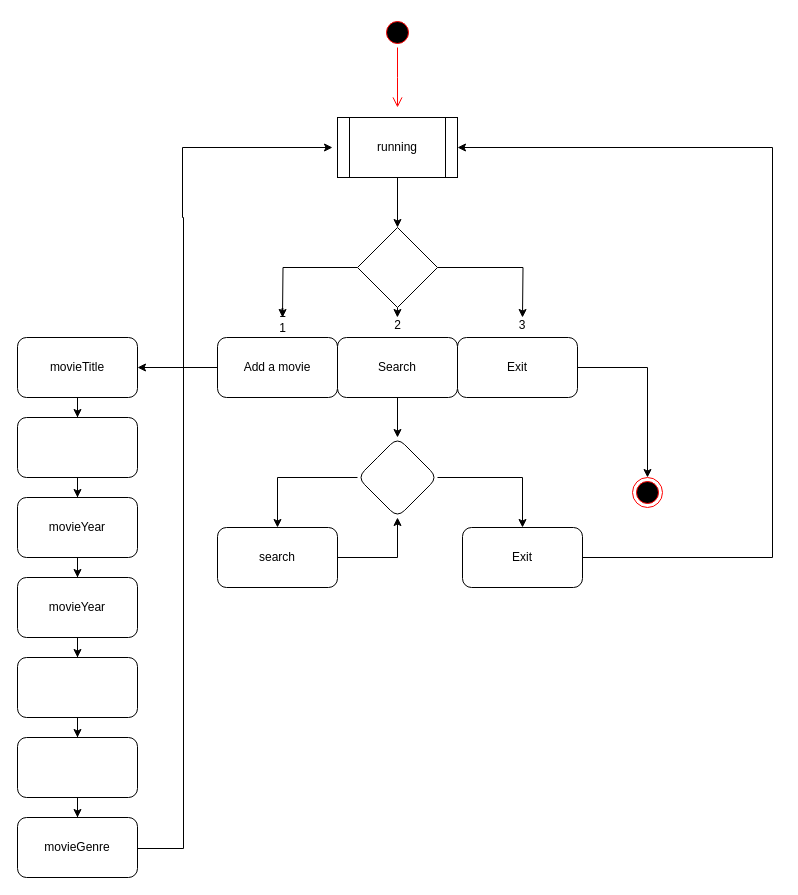
The diagram is 798 pixels wide and 895 high, and some of its shapes have lost their labels. Here are the shapes that lost their labels. From the top down, the centre of each, then its label:
At point (397, 267): "menuAction".
At point (77, 447): "movieDirector".
At point (397, 477): "searching".
At point (77, 687): "movieColored".
At point (77, 767): "movieLength".
